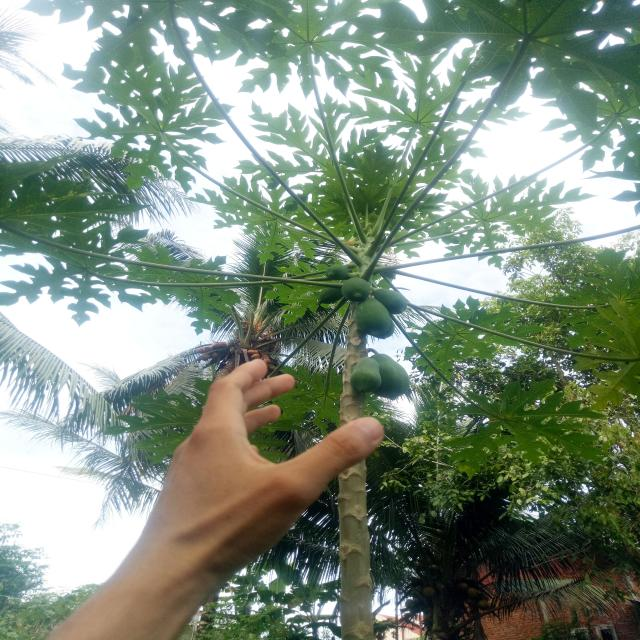Pepaya unrippen: (350, 302, 395, 340), (378, 357, 411, 399), (348, 356, 384, 391), (335, 277, 372, 296)
